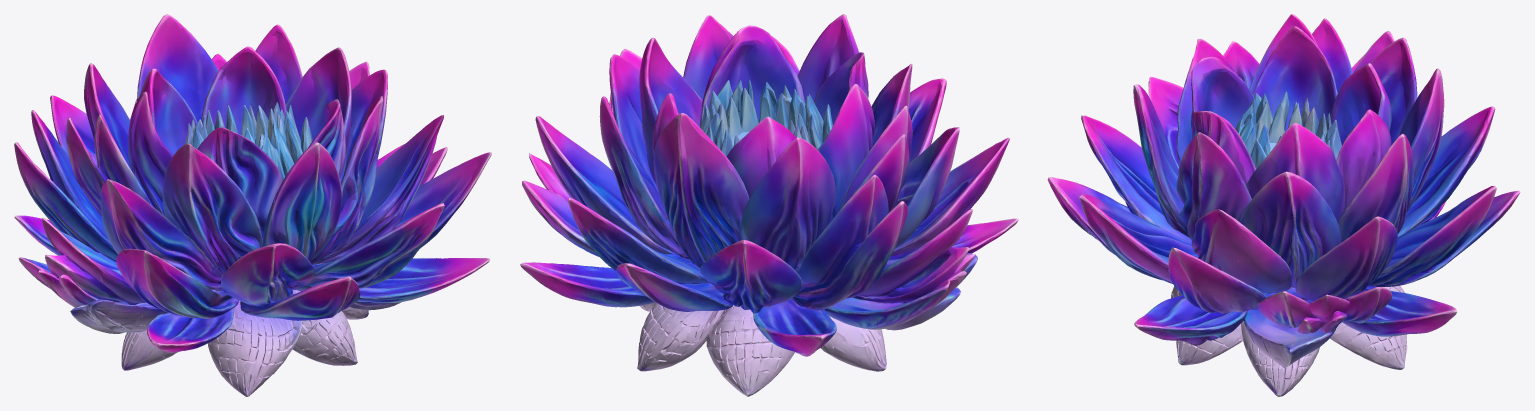
File: lotus-pbr.glb
3 renders of one model, left to right at view 1: azimuth 30°, elevation 25°; view 2: azimuth 150°, elevation 25°; view 3: azimuth 270°, elevation 25°, orthographic. The views are drawn at different scales.
Parts seen in each view (by area): view 1: model; view 2: model; view 3: model.
Boxes of the visible parts, x1,y1,x2,y2 form: model: (14,14,491,396); model: (520,14,1018,396); model: (1047,14,1520,396).
Bounding box in the file's own units: 1.86 × 1.21 × 1.9.
Materials: 1 (1 with a texture image).
